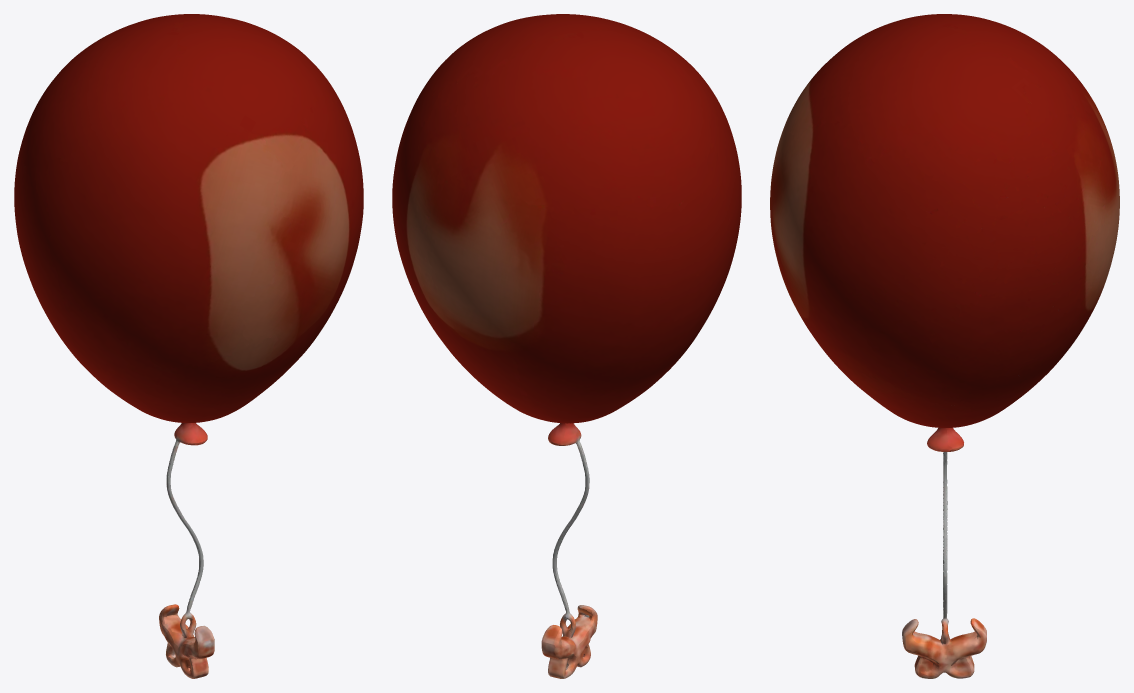
3 renders of one model, left to right at view 1: azimuth 30°, elevation 25°; view 2: azimuth 150°, elevation 25°; view 3: azimuth 270°, elevation 25°, orthographic.
Visible parts, largest first — view 1: geometry_0; view 2: geometry_0; view 3: geometry_0.
Boxes of the visible parts, bbox=[...] form: geometry_0: bbox=[14, 14, 363, 678]; geometry_0: bbox=[392, 14, 741, 678]; geometry_0: bbox=[770, 14, 1119, 678].
Bounding box in the file's own units: 0.1792 × 0.36 × 0.1771.
Materials: 1 (1 with a texture image).
